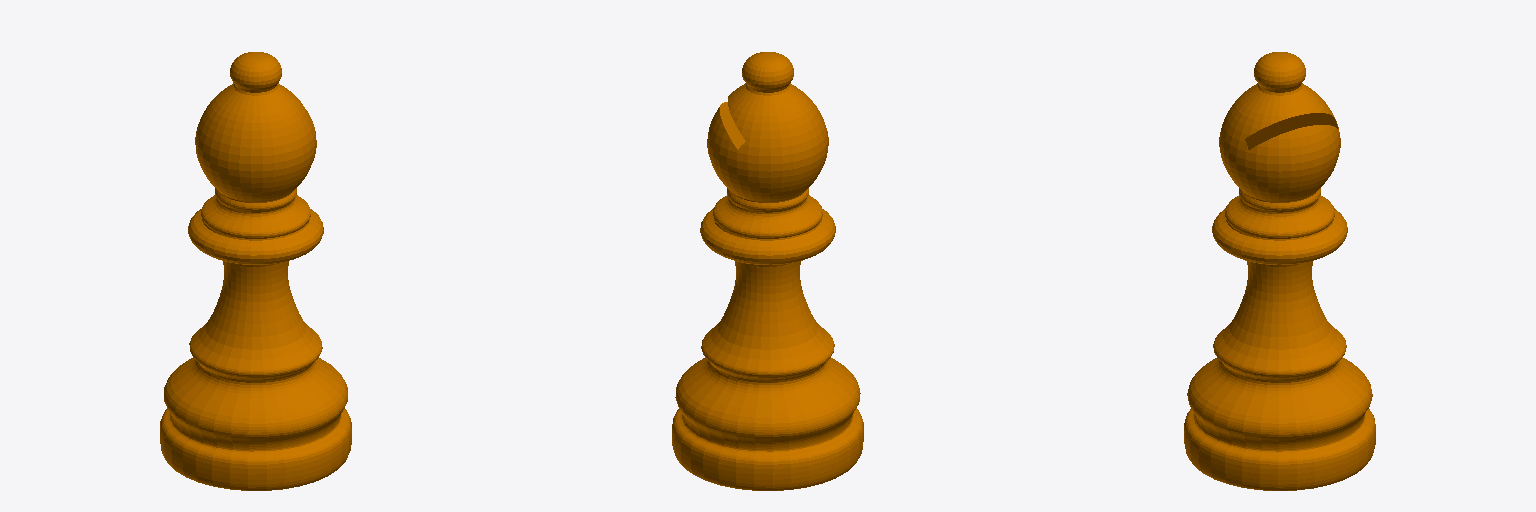
The model's file is bishop.obj.
3 renders of one model, left to right at view 1: azimuth 30°, elevation 25°; view 2: azimuth 150°, elevation 25°; view 3: azimuth 270°, elevation 25°, orthographic.
Visible parts, largest first — view 1: Bishop; view 2: Bishop; view 3: Bishop.
Boxes of the visible parts, <box> form: Bishop: <box>160,52,351,490</box>; Bishop: <box>672,52,863,490</box>; Bishop: <box>1184,52,1375,490</box>.
Bounding box in the file's own units: 0.4997 × 1.14 × 0.4997.